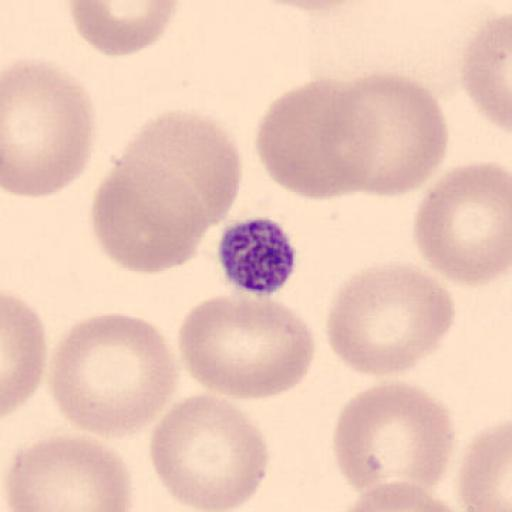Platelet: (217, 214, 299, 298)
RBC: (48, 310, 181, 440), (252, 75, 378, 204), (324, 260, 457, 378), (119, 106, 244, 230), (176, 293, 318, 401), (332, 380, 456, 497), (149, 393, 271, 511), (338, 70, 450, 198), (89, 159, 211, 274), (2, 56, 98, 200), (411, 160, 512, 287), (2, 433, 135, 512), (67, 0, 182, 58), (459, 11, 512, 134), (2, 290, 46, 419), (456, 419, 512, 512), (340, 478, 469, 512), (247, 0, 373, 14)
